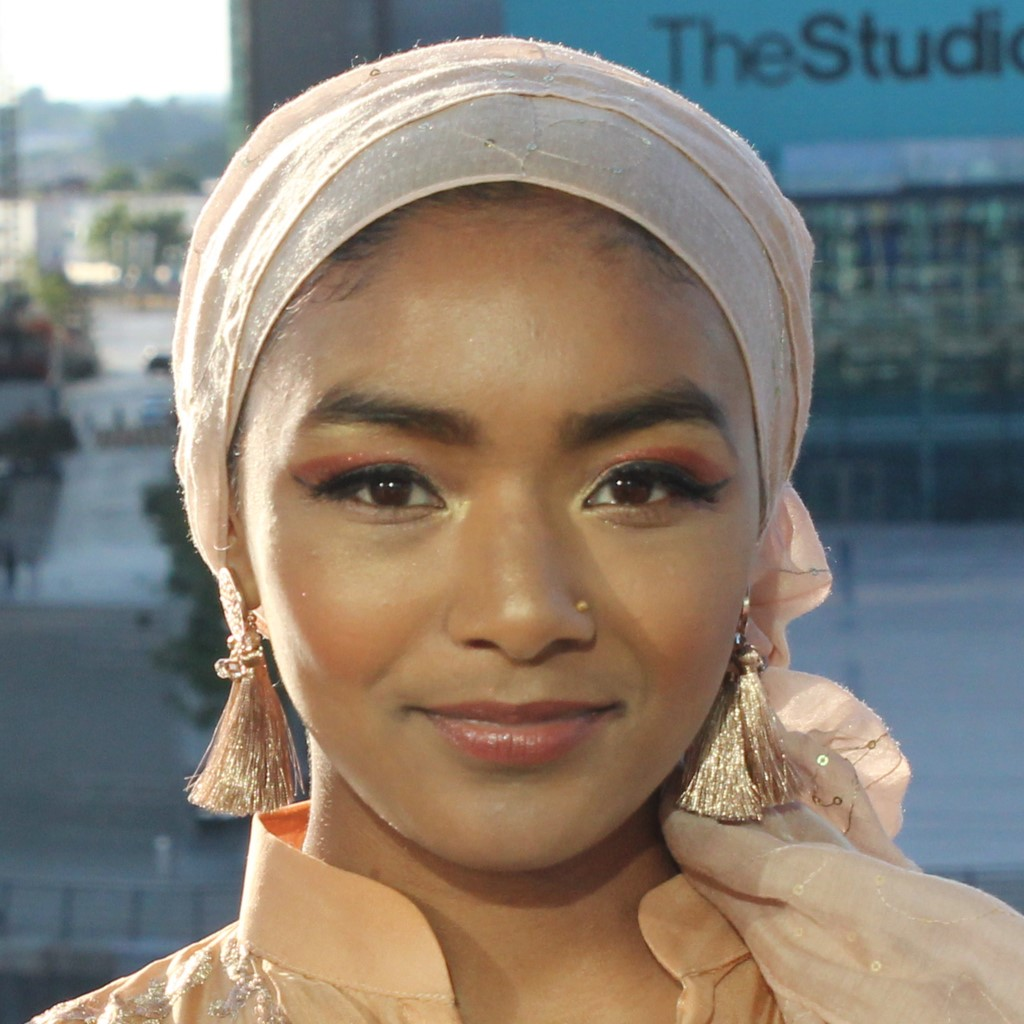sin_mascara: (239, 185, 771, 898)
